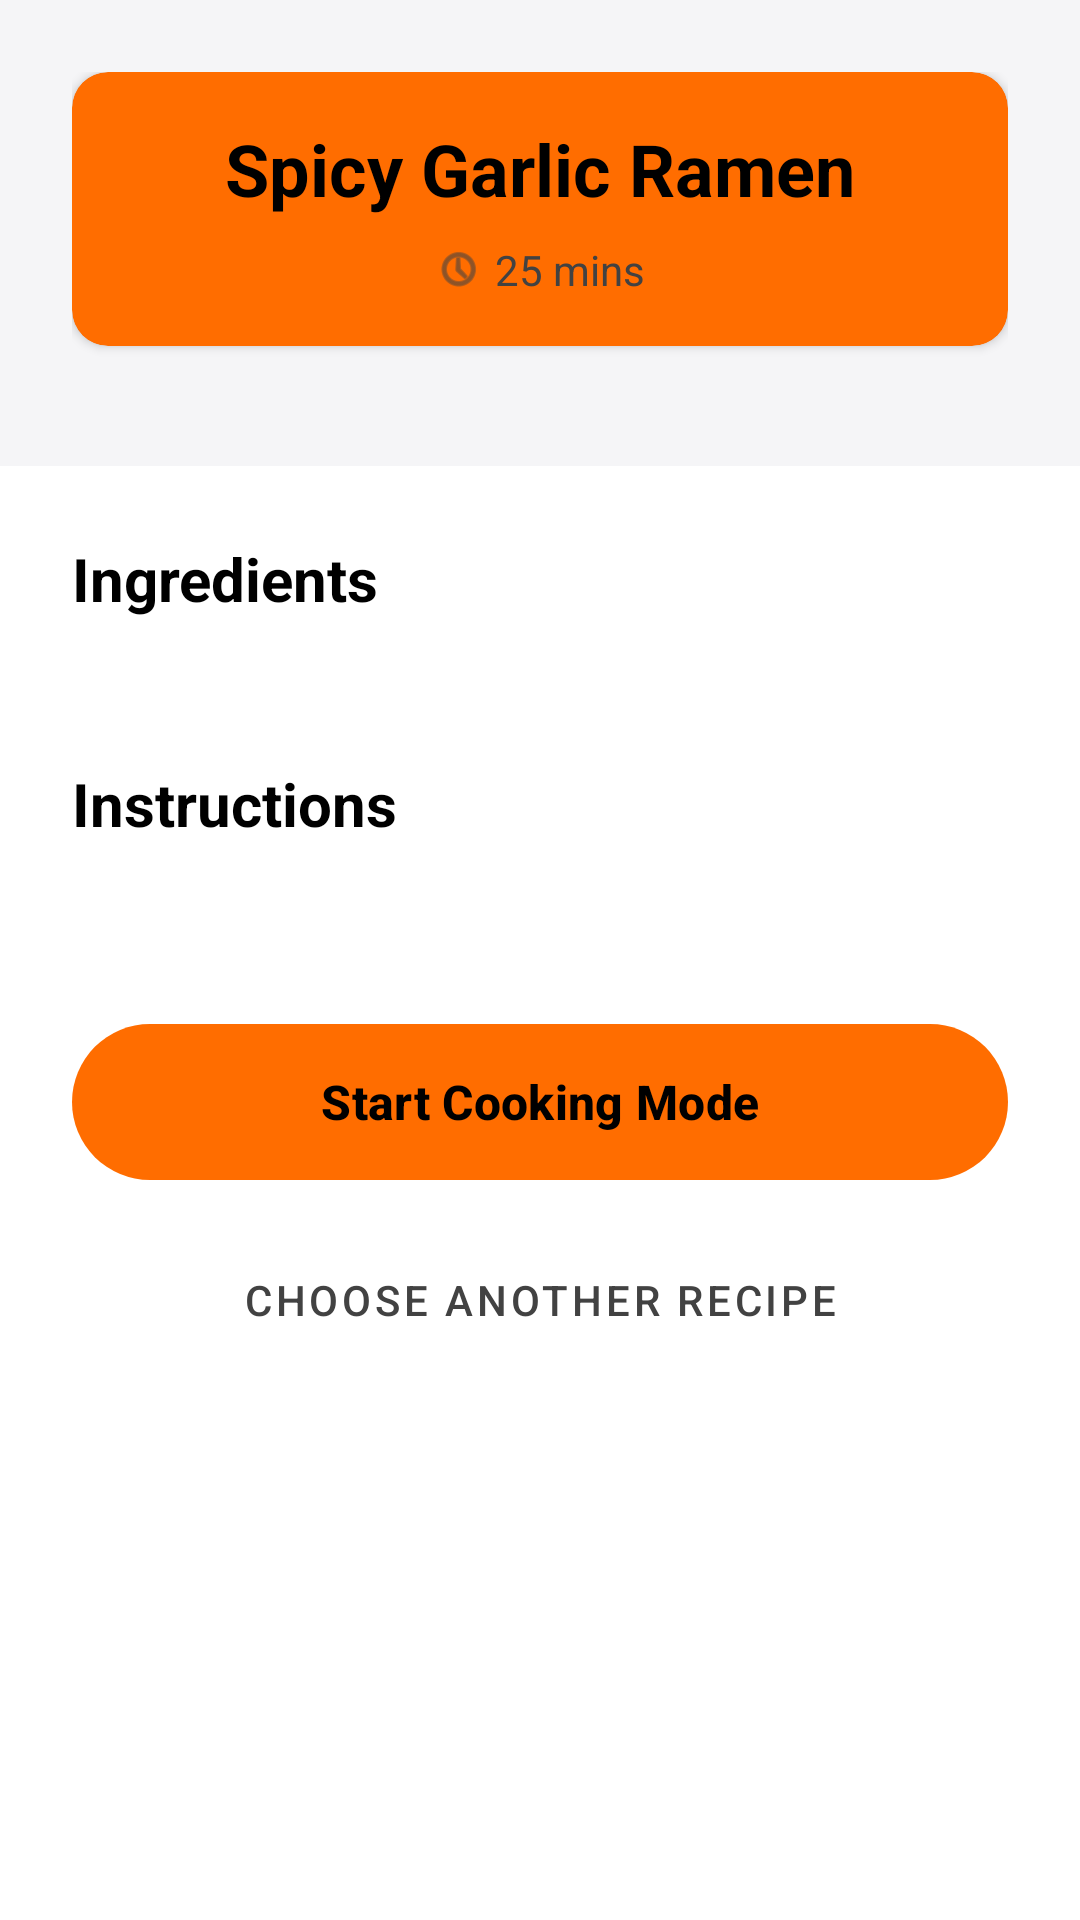

Screen size 1080x1920. Icon name, then its center in pixels as (x,y):
recent history: (458,269)
